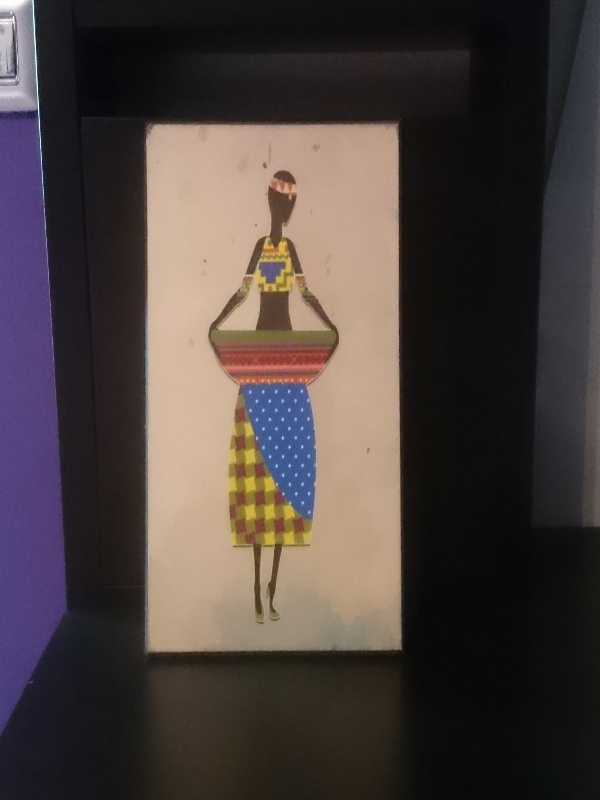my image: (143, 125, 401, 655)
